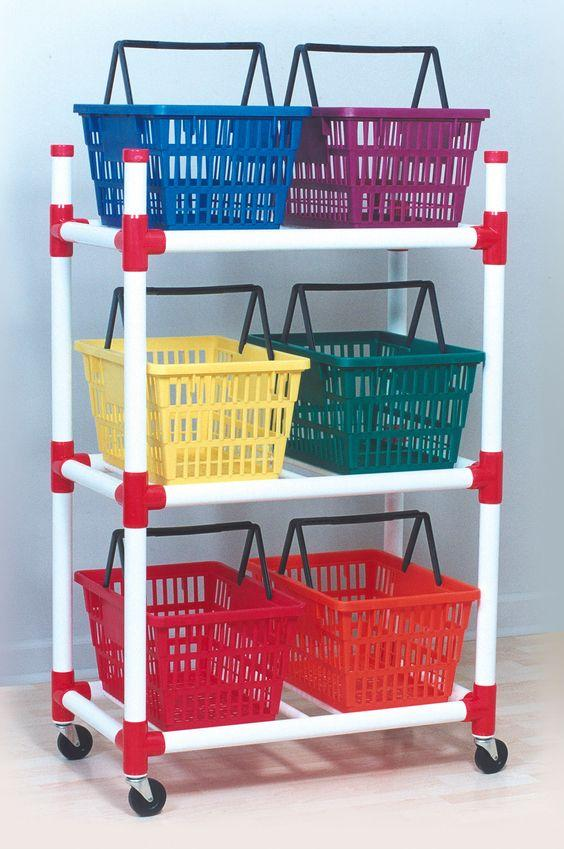PVC: (36, 141, 81, 716), (116, 138, 151, 782), (473, 146, 508, 739), (151, 702, 478, 752), (153, 221, 478, 264), (156, 473, 481, 504)
